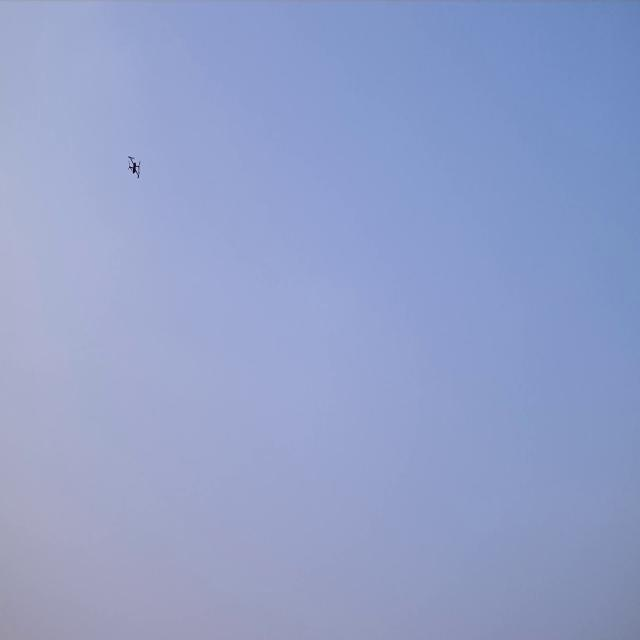UAV: (128, 154, 141, 180)
